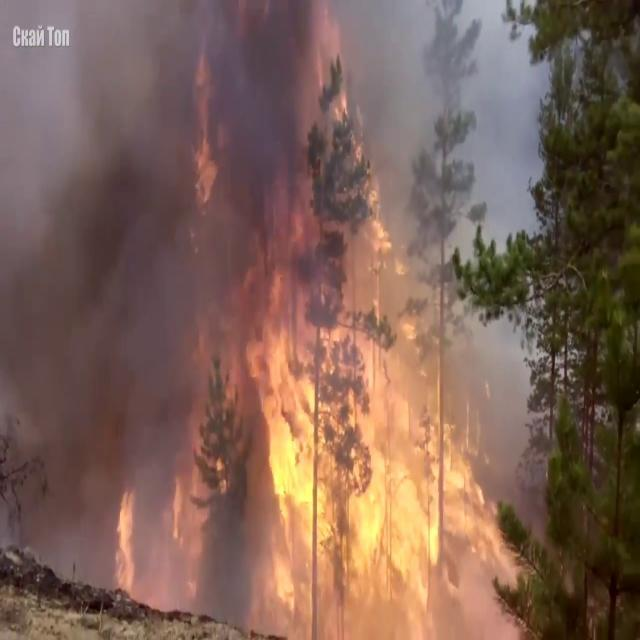Fire: (236, 204, 479, 624)
Smoke: (0, 2, 267, 590)
